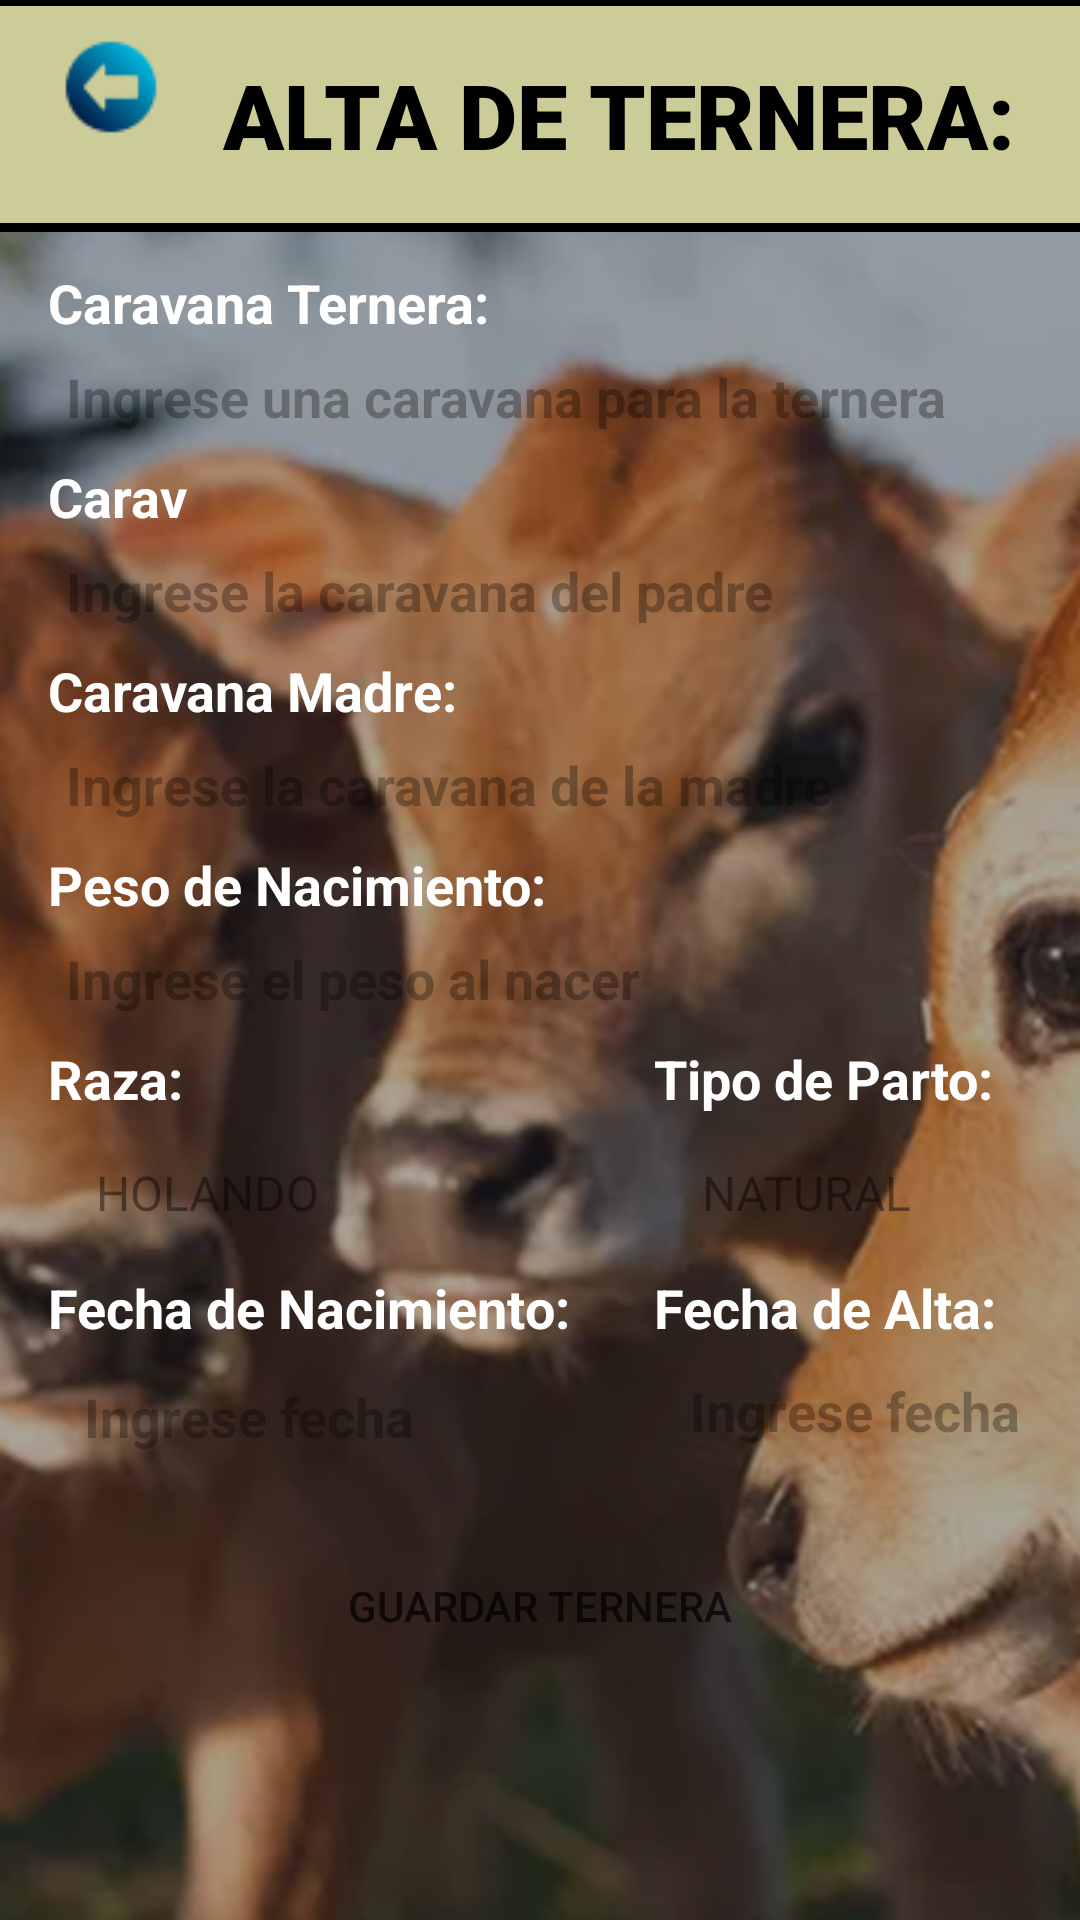

Where to tap for icons on this 1080w x 1920h app screen, as point (x, y):
back: point (111, 87)
